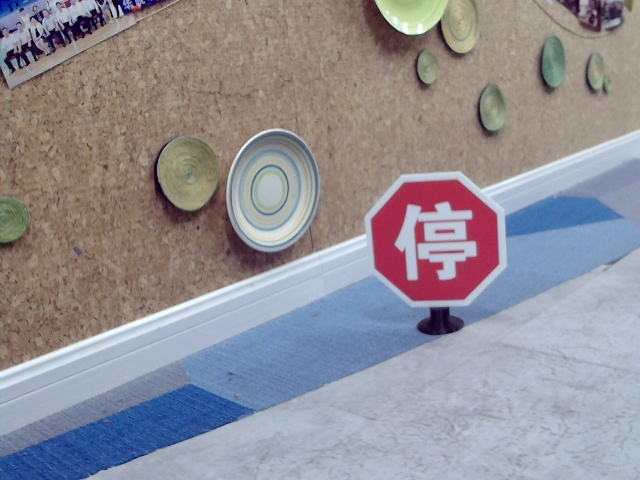stop: (392, 198, 481, 284)
